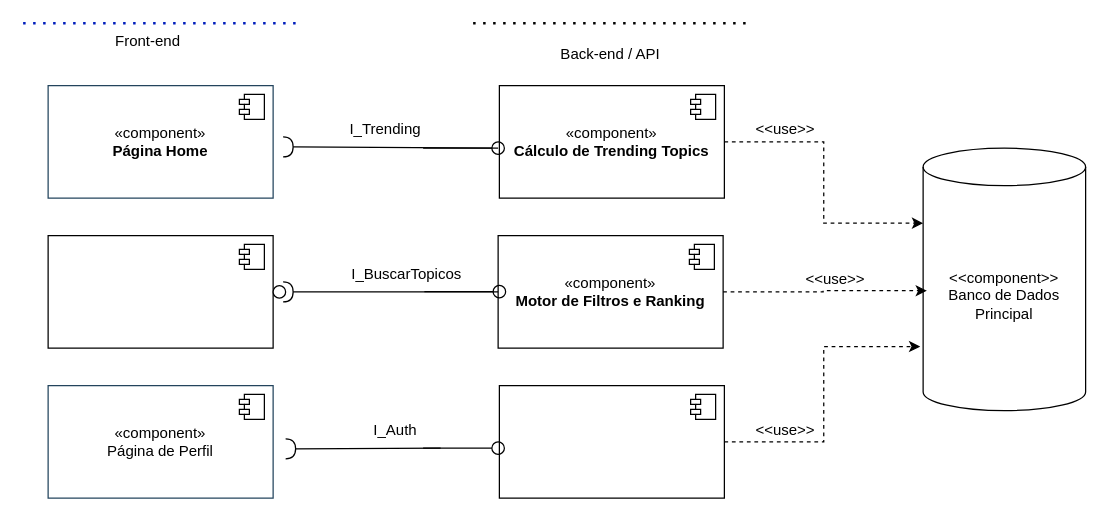
Some shapes in this 1108 by 520 pixel diagram are drawn without their labels. The shapes that lost their labels are listed below. From the top down, each one's centre as x and y in pixels, then its label:
At (160,291): "«component» Página de Discussões".
At (611,441): "«component» Sistema de Au tentificação".
